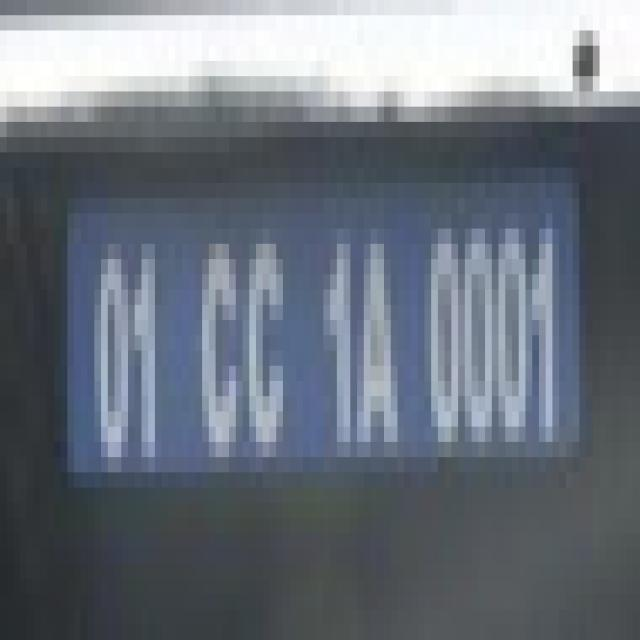0: (89, 228, 136, 481), (460, 192, 500, 472), (423, 203, 464, 473), (495, 197, 535, 463)
1: (130, 221, 171, 486), (319, 209, 356, 463), (527, 198, 564, 452)
A: (355, 218, 404, 476)
C: (196, 221, 246, 480), (244, 222, 290, 466)
